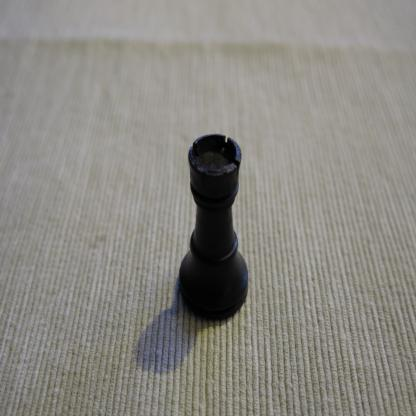black-rook: (178, 132, 249, 322)
